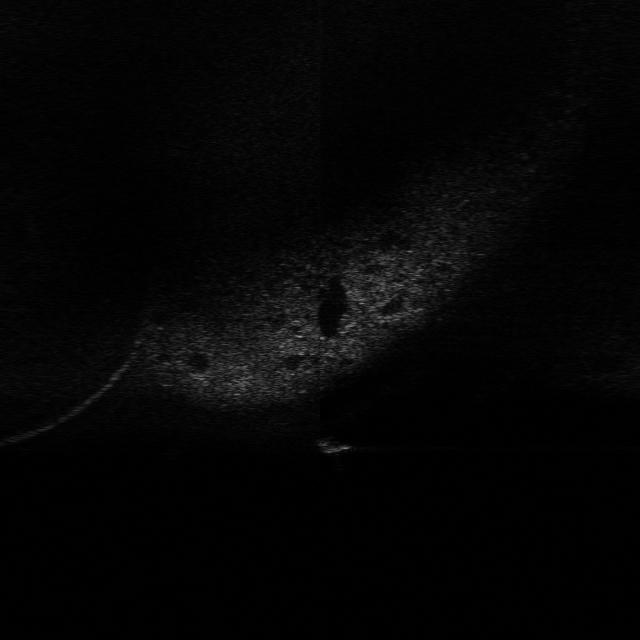cube: (310, 432, 358, 459)
